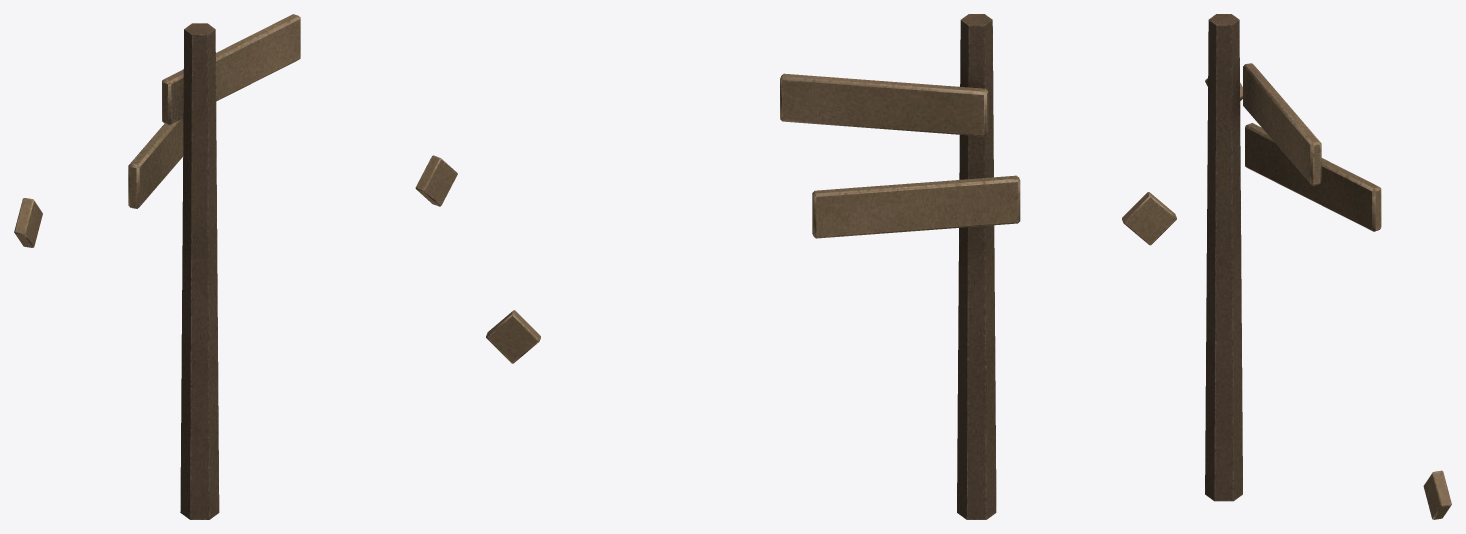
The model's file is placa_estrada.glb.
The picture shows the model from 3 angles, left to right: view 1: azimuth 30°, elevation 25°; view 2: azimuth 150°, elevation 25°; view 3: azimuth 270°, elevation 25°; orthographic projection. The views are drawn at different scales.
Visible parts, largest first — view 1: placa_estrada; view 2: placa_estrada; view 3: placa_estrada.
Part boxes in pixels (box(x1,y1,x2,y2)): placa_estrada: box(14, 14, 457, 519); placa_estrada: box(486, 14, 1176, 519); placa_estrada: box(1205, 14, 1451, 519).
Size of the model in its own units: 2.66 by 2.2 by 1.04.
Materials: 1 (1 with a texture image).
